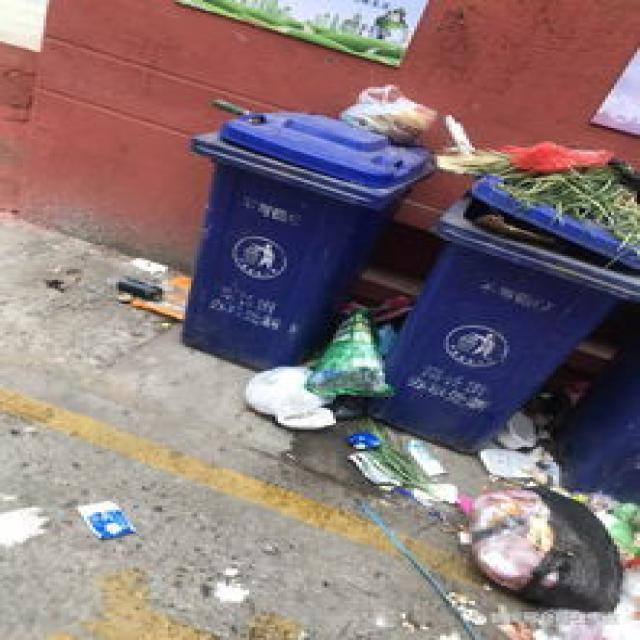garbage: (243, 295, 637, 638), (107, 252, 188, 319)
overflow: (374, 115, 637, 453), (177, 82, 434, 366)
